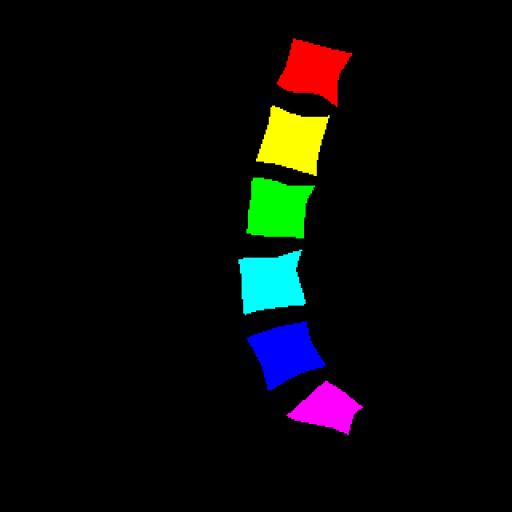L1: (277, 38, 352, 106)
L2: (256, 106, 329, 176)
L3: (246, 178, 314, 238)
L4: (239, 250, 305, 314)
L5: (248, 322, 325, 390)
S1: (287, 381, 363, 434)
